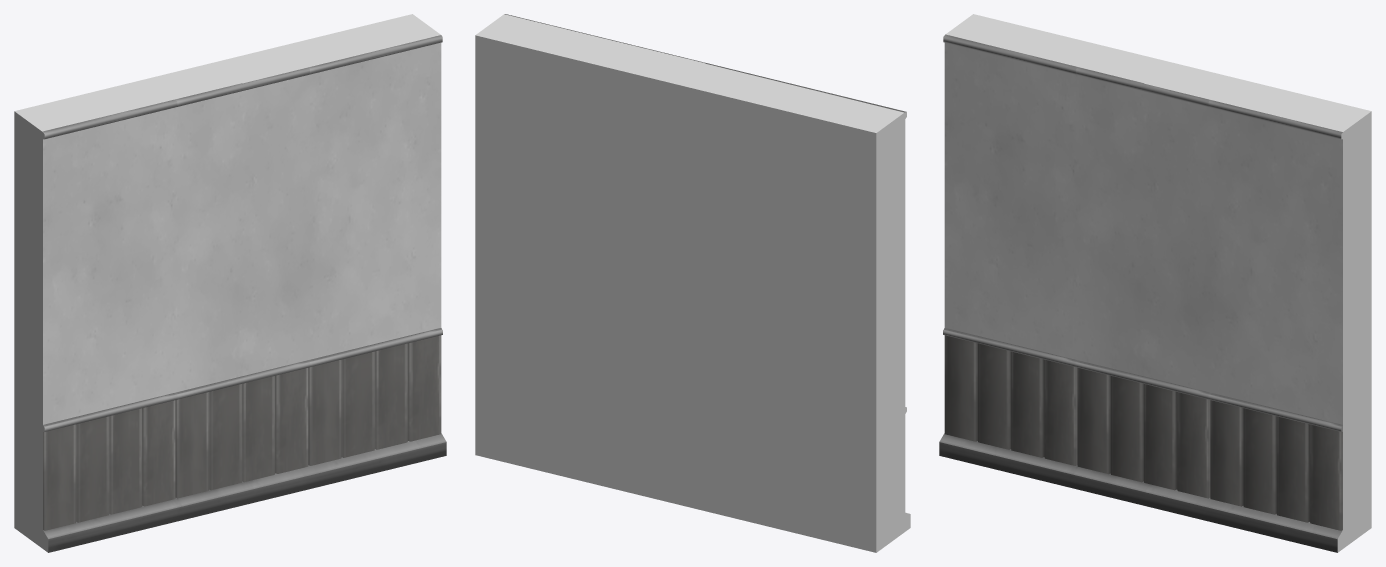
The model's file is walltileset.fbx.
3 renders of one model, left to right at view 1: azimuth 30°, elevation 25°; view 2: azimuth 150°, elevation 25°; view 3: azimuth 330°, elevation 25°, orthographic.
Visible parts, largest first — view 1: 2L, 1I; view 2: 2L, 1I; view 3: 2L, 1I.
Boxes of the visible parts, x1,y1,x2,y2 form: 2L: (14,14,446,552); 1I: (214,14,446,503); 2L: (475,14,910,552); 1I: (475,14,705,503); 2L: (939,14,1371,552); 1I: (1138,62,1371,552).
Bounding box in the file's own units: 200 × 200 × 29.65.
